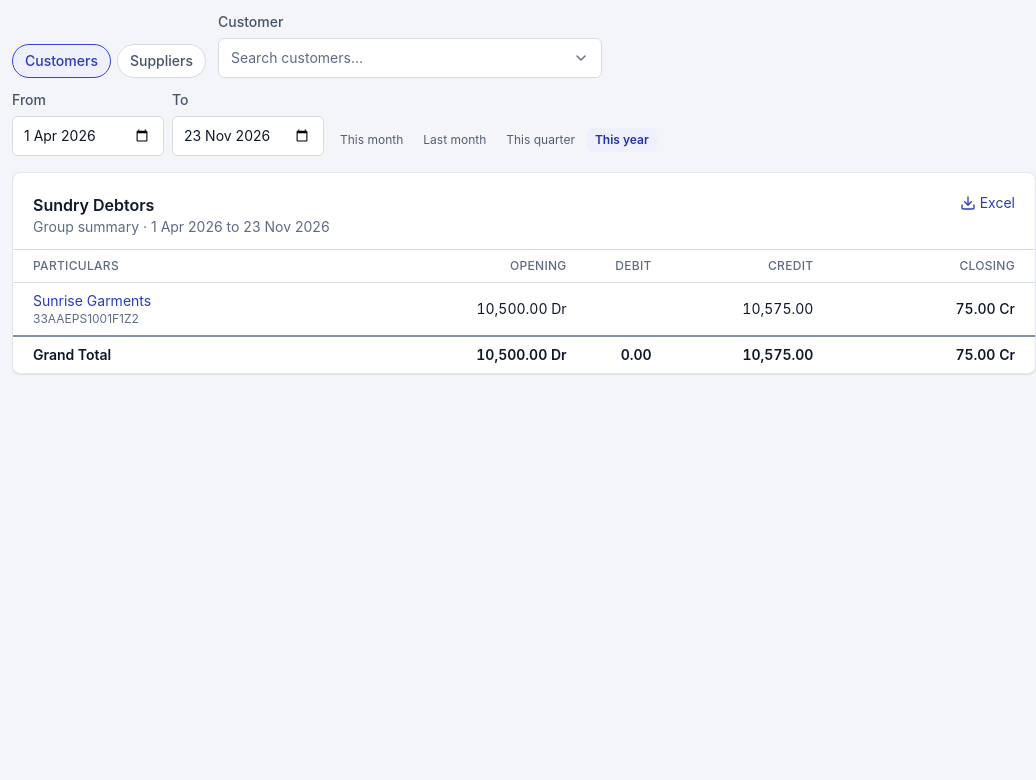
it: customers' and suppliers' accounts › shows a party's ledger the way Tally prints it
Click the button "Sunrise Garments": (92, 301) [33,291,151,311]
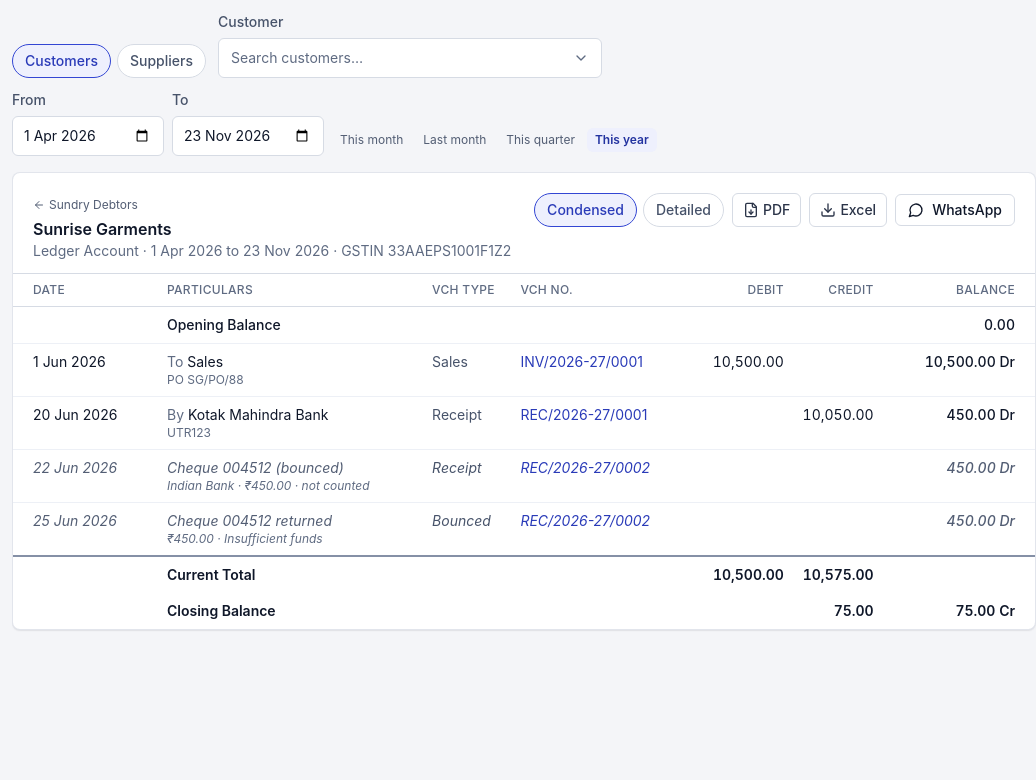
Now the text "Opening Balance" is shown, box [166,306,695,344]
Now the row that starts with "1 Jun 2026" shows "To Sales", box [13,344,1035,396]
Now the row that starts with "1 Jun 2026" shows "PO SG/PO/88", box [167,372,244,387]
